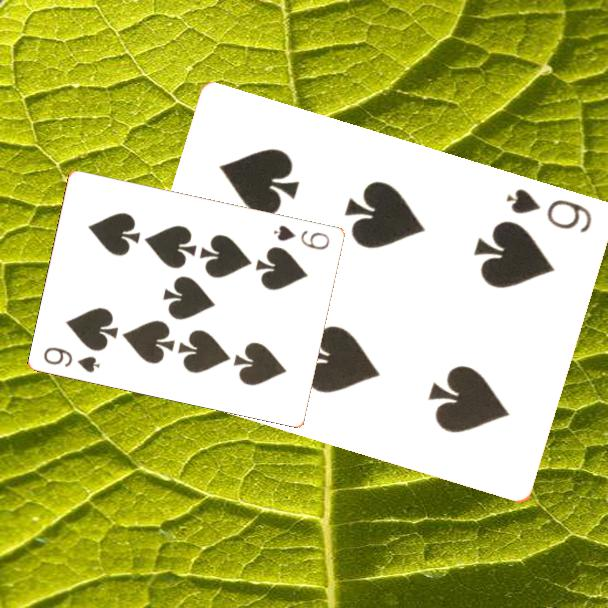s06: (502, 184, 596, 236)
s09: (40, 343, 103, 375), (271, 221, 333, 252)
